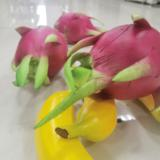pitaya: (69, 16, 160, 98), (11, 25, 68, 88), (52, 12, 102, 44)
